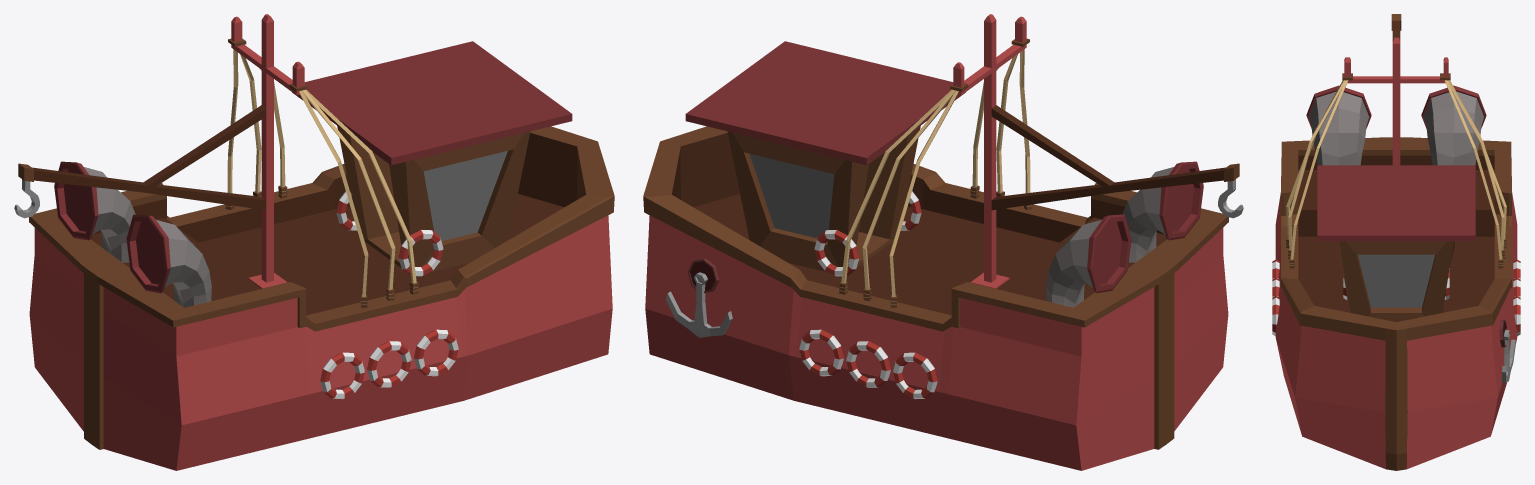
File: RedBoat.fbx
3 renders of one model, left to right at view 1: azimuth 30°, elevation 25°; view 2: azimuth 150°, elevation 25°; view 3: azimuth 270°, elevation 25°, orthographic. The views are drawn at different scales.
Visible parts, largest first — view 1: RedBoat; view 2: RedBoat; view 3: RedBoat.
Boxes of the visible parts, x1,y1,x2,y2 form: RedBoat: (14,14,614,470); RedBoat: (643,14,1243,470); RedBoat: (1272,14,1520,470).
Size of the model in its own units: 1234 by 804 by 573.
